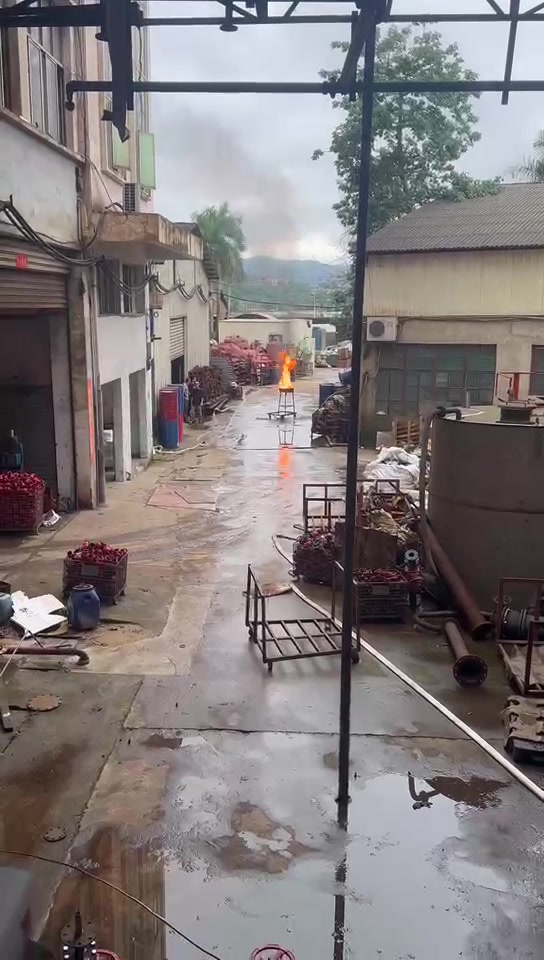fire: (277, 353, 295, 388)
